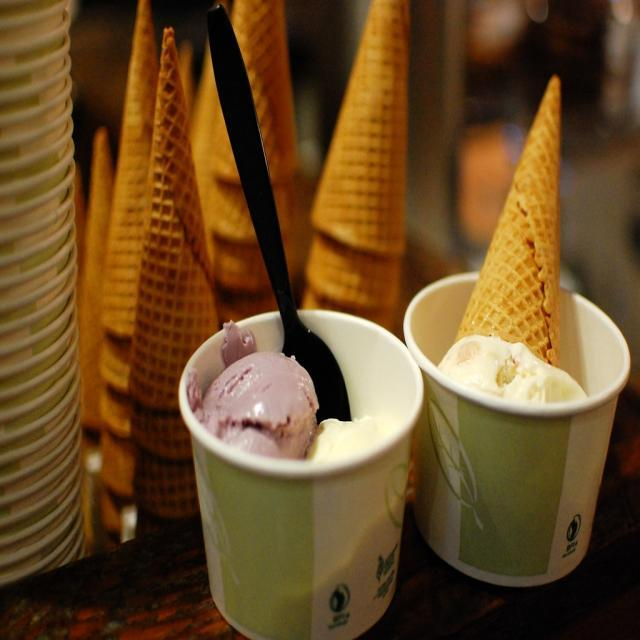Ice cream: (179, 306, 423, 638), (432, 71, 596, 427), (187, 320, 319, 460)
